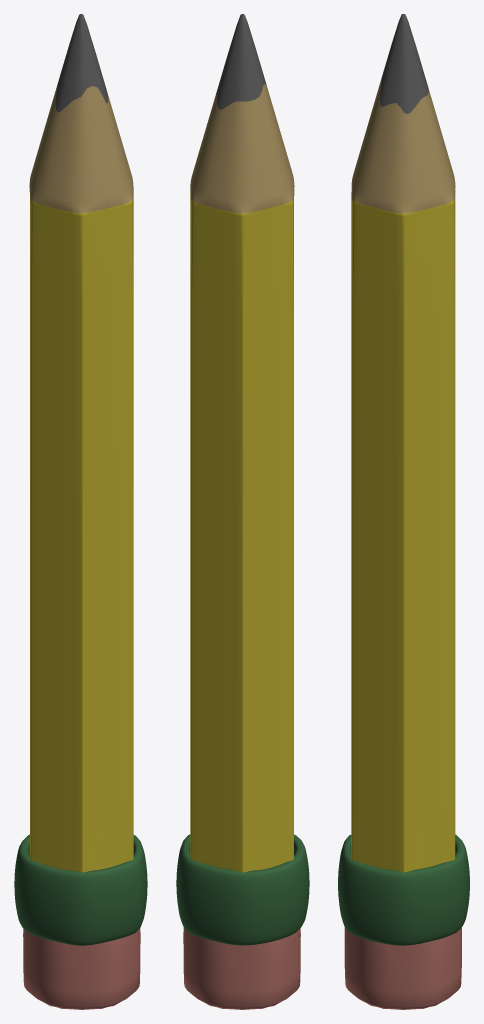
Rendered from pencil.fbx.
The picture shows the model from 3 angles, left to right: view 1: azimuth 30°, elevation 25°; view 2: azimuth 210°, elevation 25°; view 3: azimuth 270°, elevation 25°; orthographic projection.
Visible parts, largest first — view 1: polySurface1; view 2: polySurface1; view 3: polySurface1.
Boxes of the visible parts, x1=… form: polySurface1: x1=14, y1=14, x2=147, y2=1009; polySurface1: x1=176, y1=14, x2=309, y2=1009; polySurface1: x1=338, y1=14, x2=469, y2=1009.
Size of the model in its own units: 2.26 by 17.91 by 2.2.
